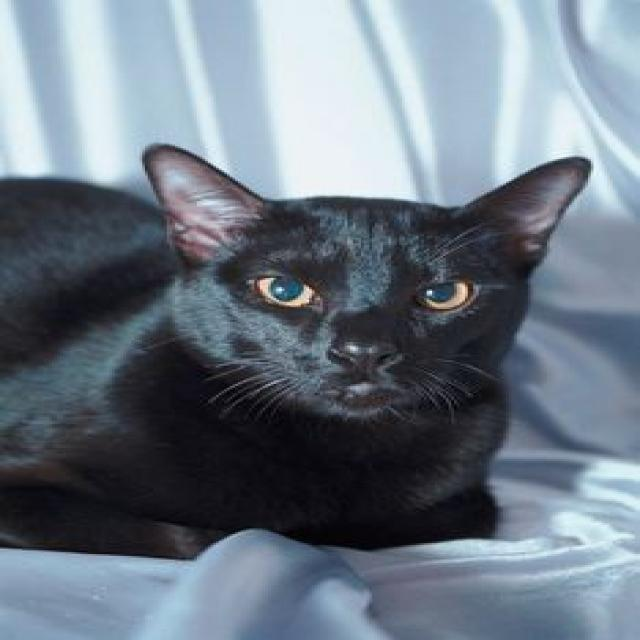Bombay: (137, 143, 585, 415)
